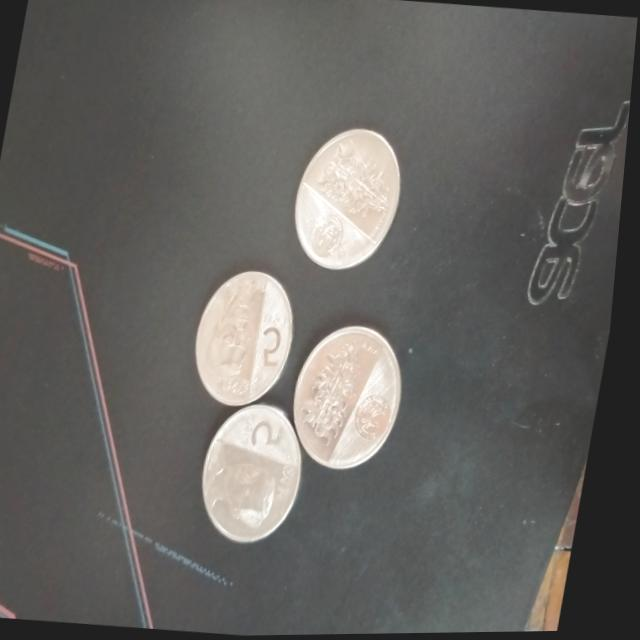5_New_Back: (296, 326, 389, 459)
5_New_Front: (250, 310, 303, 382), (243, 404, 304, 455)
